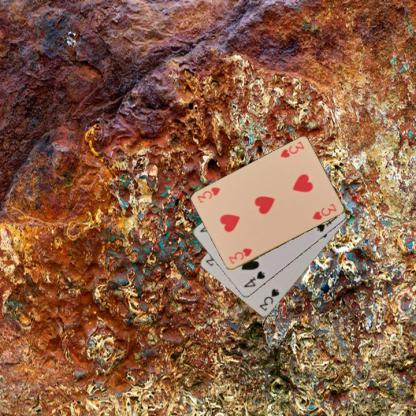3h: (277, 138, 306, 160), (226, 246, 254, 265)
3s: (256, 286, 281, 313)
4s: (241, 269, 267, 289)
